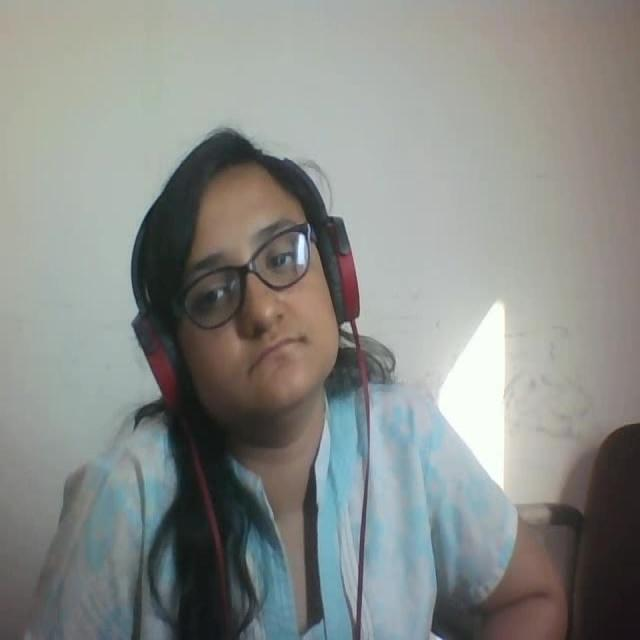Bored: (121, 97, 406, 464)
